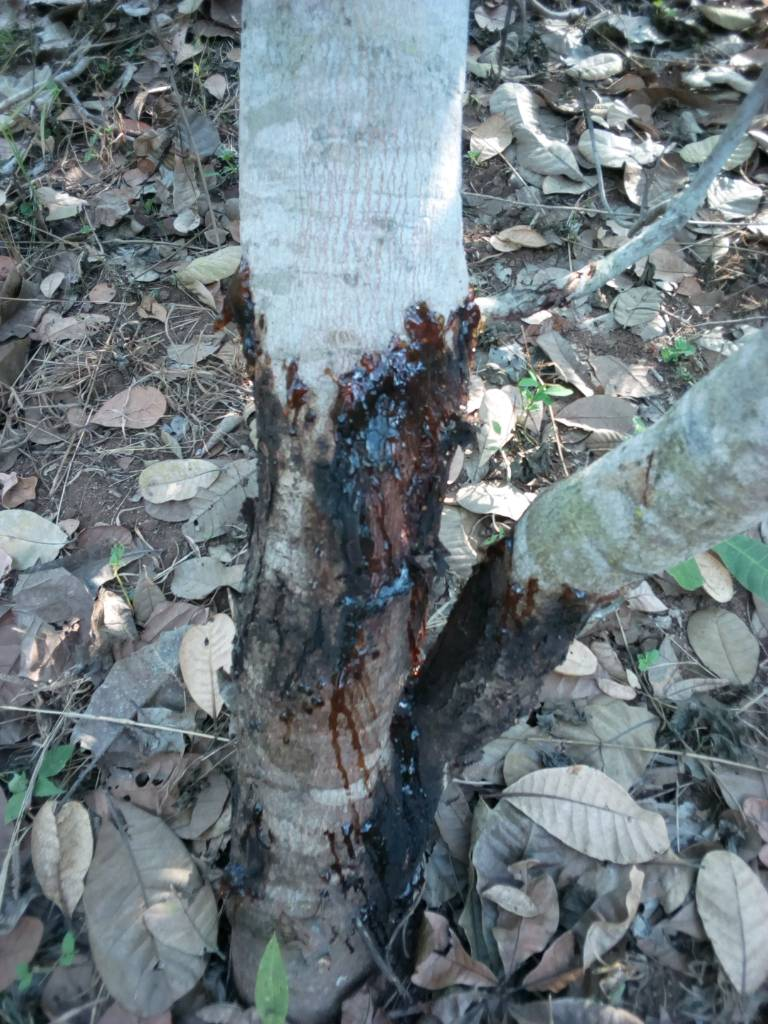Mecocorynus longiceps: (323, 291, 499, 578)
